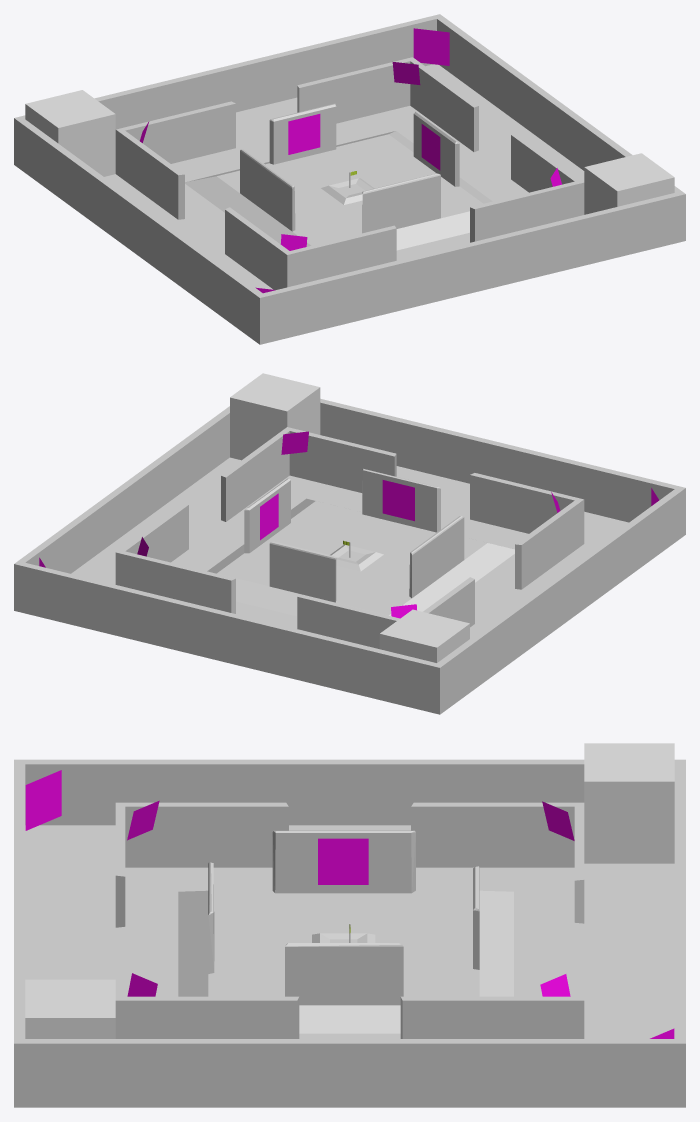
File: module_0.glb
3 views of the same model, one above another, from view 1: azimuth 30°, elevation 25°; view 2: azimuth 150°, elevation 25°; view 3: azimuth 270°, elevation 25° (orthographic). The views are drawn at different scales.
Visible parts, largest first — view 1: SCENE, SO_FLAG_DELIVERY_POINT_TEAM0_INCLUDEMESH, SO_FLAG_DELIVERY_POINT_TEAM1_INCLUDEMESH, MIRROR_0, MIRROR_4, MIRROR_3, MIRROR_6.001; view 2: SCENE, SO_FLAG_DELIVERY_POINT_TEAM1_INCLUDEMESH, SO_FLAG_DELIVERY_POINT_TEAM0_INCLUDEMESH, MIRROR_5, MIRROR_3, MIRROR_6; view 3: SCENE, SO_FLAG_DELIVERY_POINT_TEAM0_INCLUDEMESH, SO_FLAG_DELIVERY_POINT_TEAM1_INCLUDEMESH, MIRROR_2, MIRROR_1, MIRROR_6.003, MIRROR_6.002.
Part boxes in pixels (x1,y1,x2,y2): SCENE: (14,14,685,344); SO_FLAG_DELIVERY_POINT_TEAM0_INCLUDEMESH: (25,90,115,176); SO_FLAG_DELIVERY_POINT_TEAM1_INCLUDEMESH: (584,153,674,214); MIRROR_0: (413,28,449,65); MIRROR_4: (288,114,320,154); MIRROR_3: (421,124,440,170); MIRROR_6.001: (392,62,420,84); SCENE: (14,398,685,714); SO_FLAG_DELIVERY_POINT_TEAM1_INCLUDEMESH: (230,373,320,460); SO_FLAG_DELIVERY_POINT_TEAM0_INCLUDEMESH: (379,609,469,662); MIRROR_5: (382,480,414,521); MIRROR_3: (260,493,278,540); MIRROR_6: (281,431,308,454); SCENE: (14,759,685,1107); SO_FLAG_DELIVERY_POINT_TEAM0_INCLUDEMESH: (584,743,674,863); SO_FLAG_DELIVERY_POINT_TEAM1_INCLUDEMESH: (25,979,115,1038); MIRROR_2: (318,838,368,884); MIRROR_1: (25,770,61,830); MIRROR_6.003: (127,800,159,840); MIRROR_6.002: (542,801,574,840).
Bounding box in the file's own units: 26.47 × 3.7 × 26.47.
